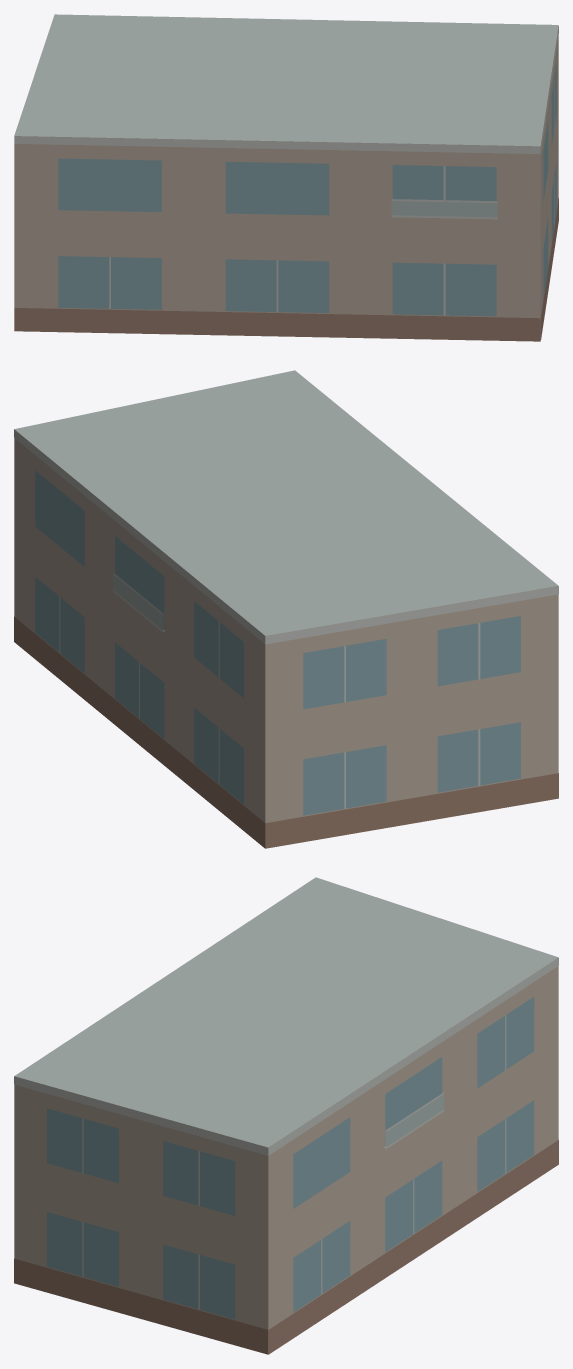
Rendered from survey-upis-32642577.glb.
The picture shows the model from 3 angles, top to bottom: view 1: azimuth 30°, elevation 25°; view 2: azimuth 150°, elevation 25°; view 3: azimuth 270°, elevation 25°; orthographic projection. The views are drawn at different scales.
Parts seen in each view (by area): view 1: survey-upis-32642577.tmp; view 2: survey-upis-32642577.tmp; view 3: survey-upis-32642577.tmp.
Boxes of the visible parts, left/top/right/bottom form: survey-upis-32642577.tmp: left=14, top=14, right=558, bottom=341; survey-upis-32642577.tmp: left=14, top=370, right=558, bottom=848; survey-upis-32642577.tmp: left=14, top=877, right=558, bottom=1354.
Size of the model in its own units: 17.09 by 6.1 by 14.55.
